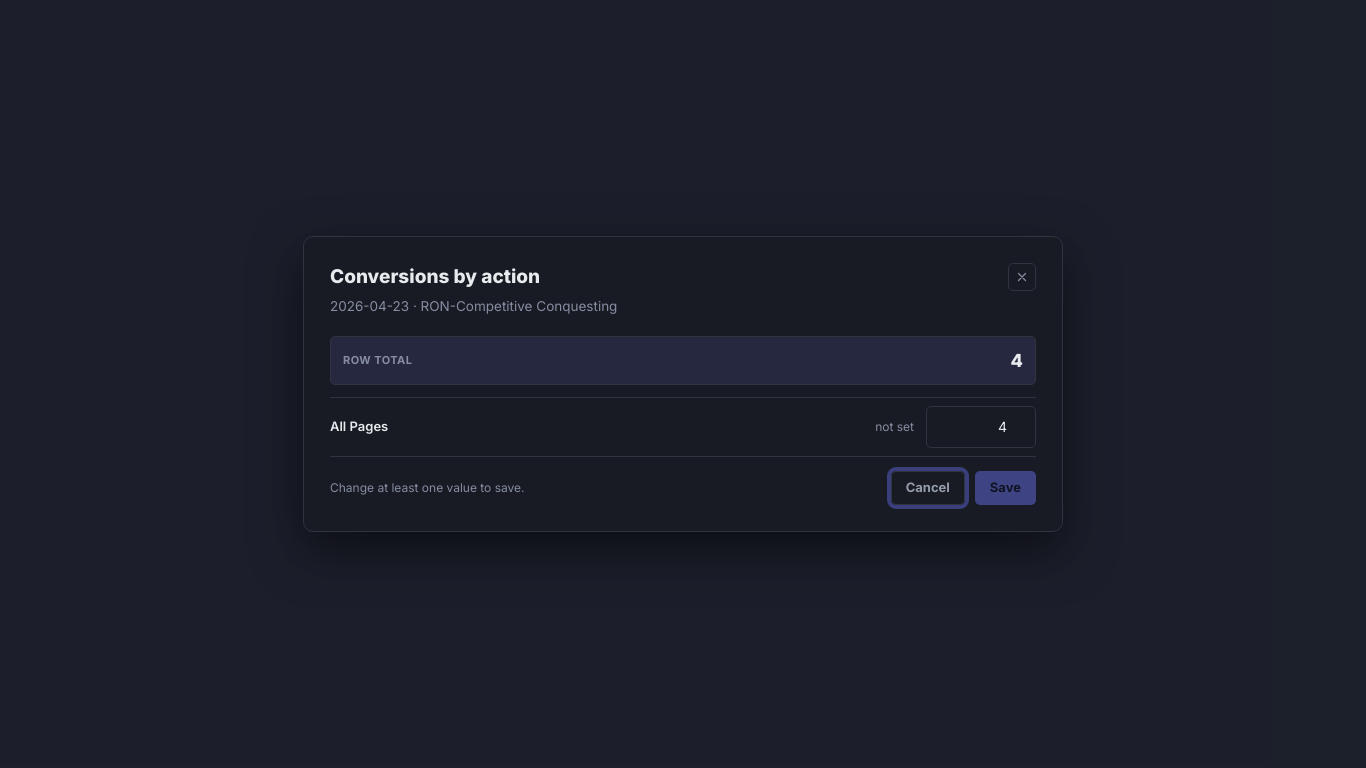
Scenario: ConversionsBreakdown › should refuse to save a figure that is not a number
Note: the cell is emptied
Clear the number field named "Conversions for All Pages" at (981, 427), box [926,406,1036,448]
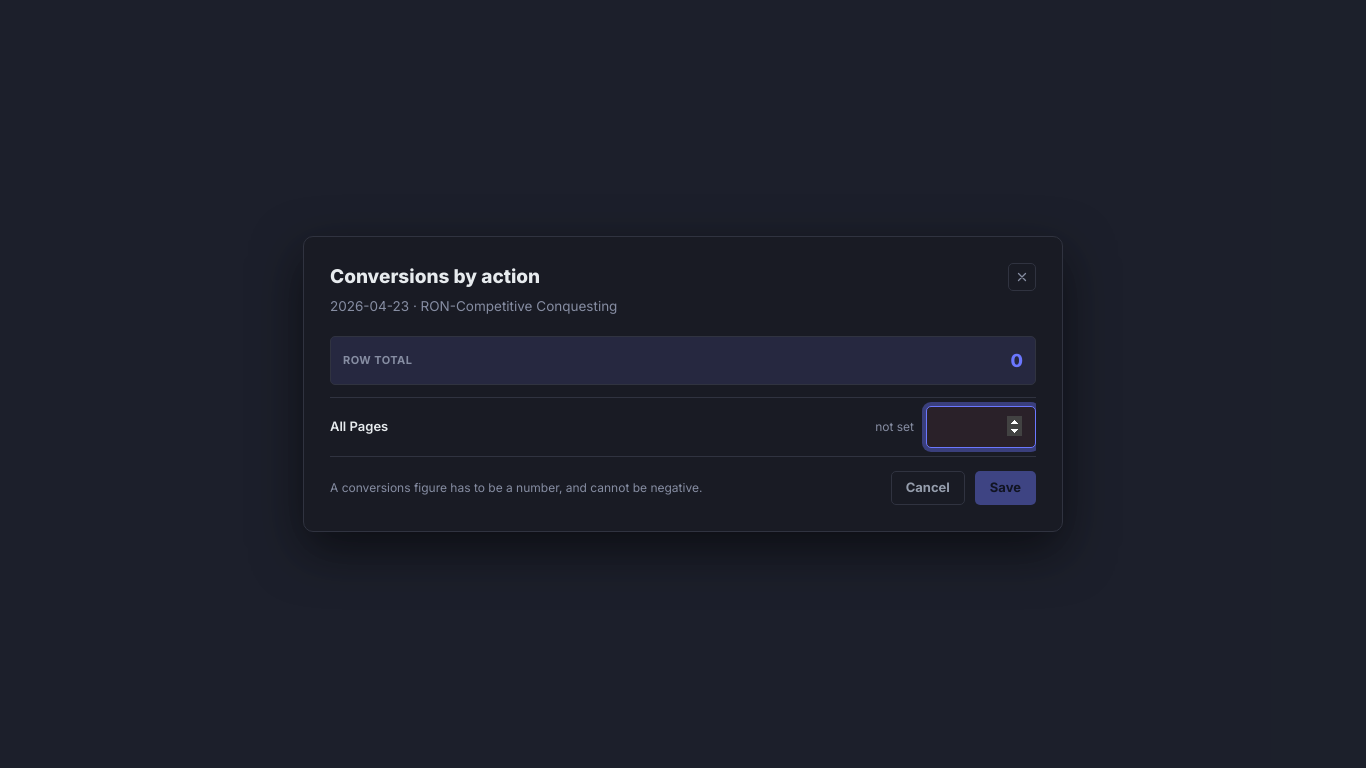
Expected: the button "Save" is disabled, [975,471,1036,505]
Expected: the text "has to be a number" is shown, [330,480,702,495]
